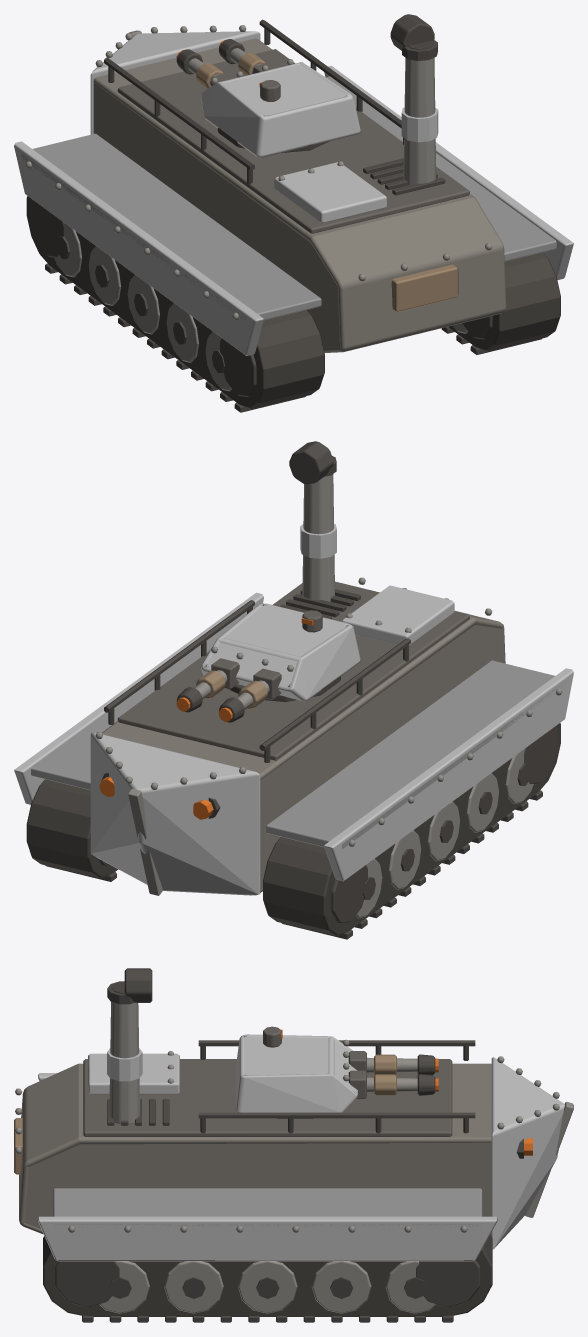
File: crucible_amphibious.glb
The picture shows the model from 3 angles, top to bottom: view 1: azimuth 30°, elevation 25°; view 2: azimuth 150°, elevation 25°; view 3: azimuth 270°, elevation 25°; orthographic projection. The views are drawn at different scales.
Parts seen in each view (by area): view 1: Body, Turret; view 2: Body, Turret; view 3: Body, Turret.
Boxes of the visible parts, bbox=[...] form: Body: bbox=[14, 14, 573, 412]; Turret: bbox=[176, 39, 360, 157]; Body: bbox=[14, 441, 573, 939]; Turret: bbox=[176, 603, 360, 722]; Body: bbox=[14, 968, 573, 1322]; Turret: bbox=[236, 1026, 438, 1118].
Bounding box in the file's own units: 1.56 × 1.47 × 2.43.
